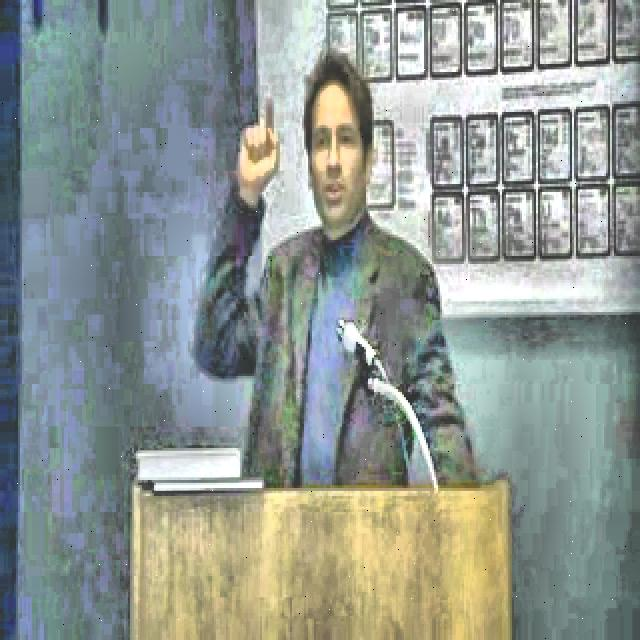T: (180, 48, 478, 494)
